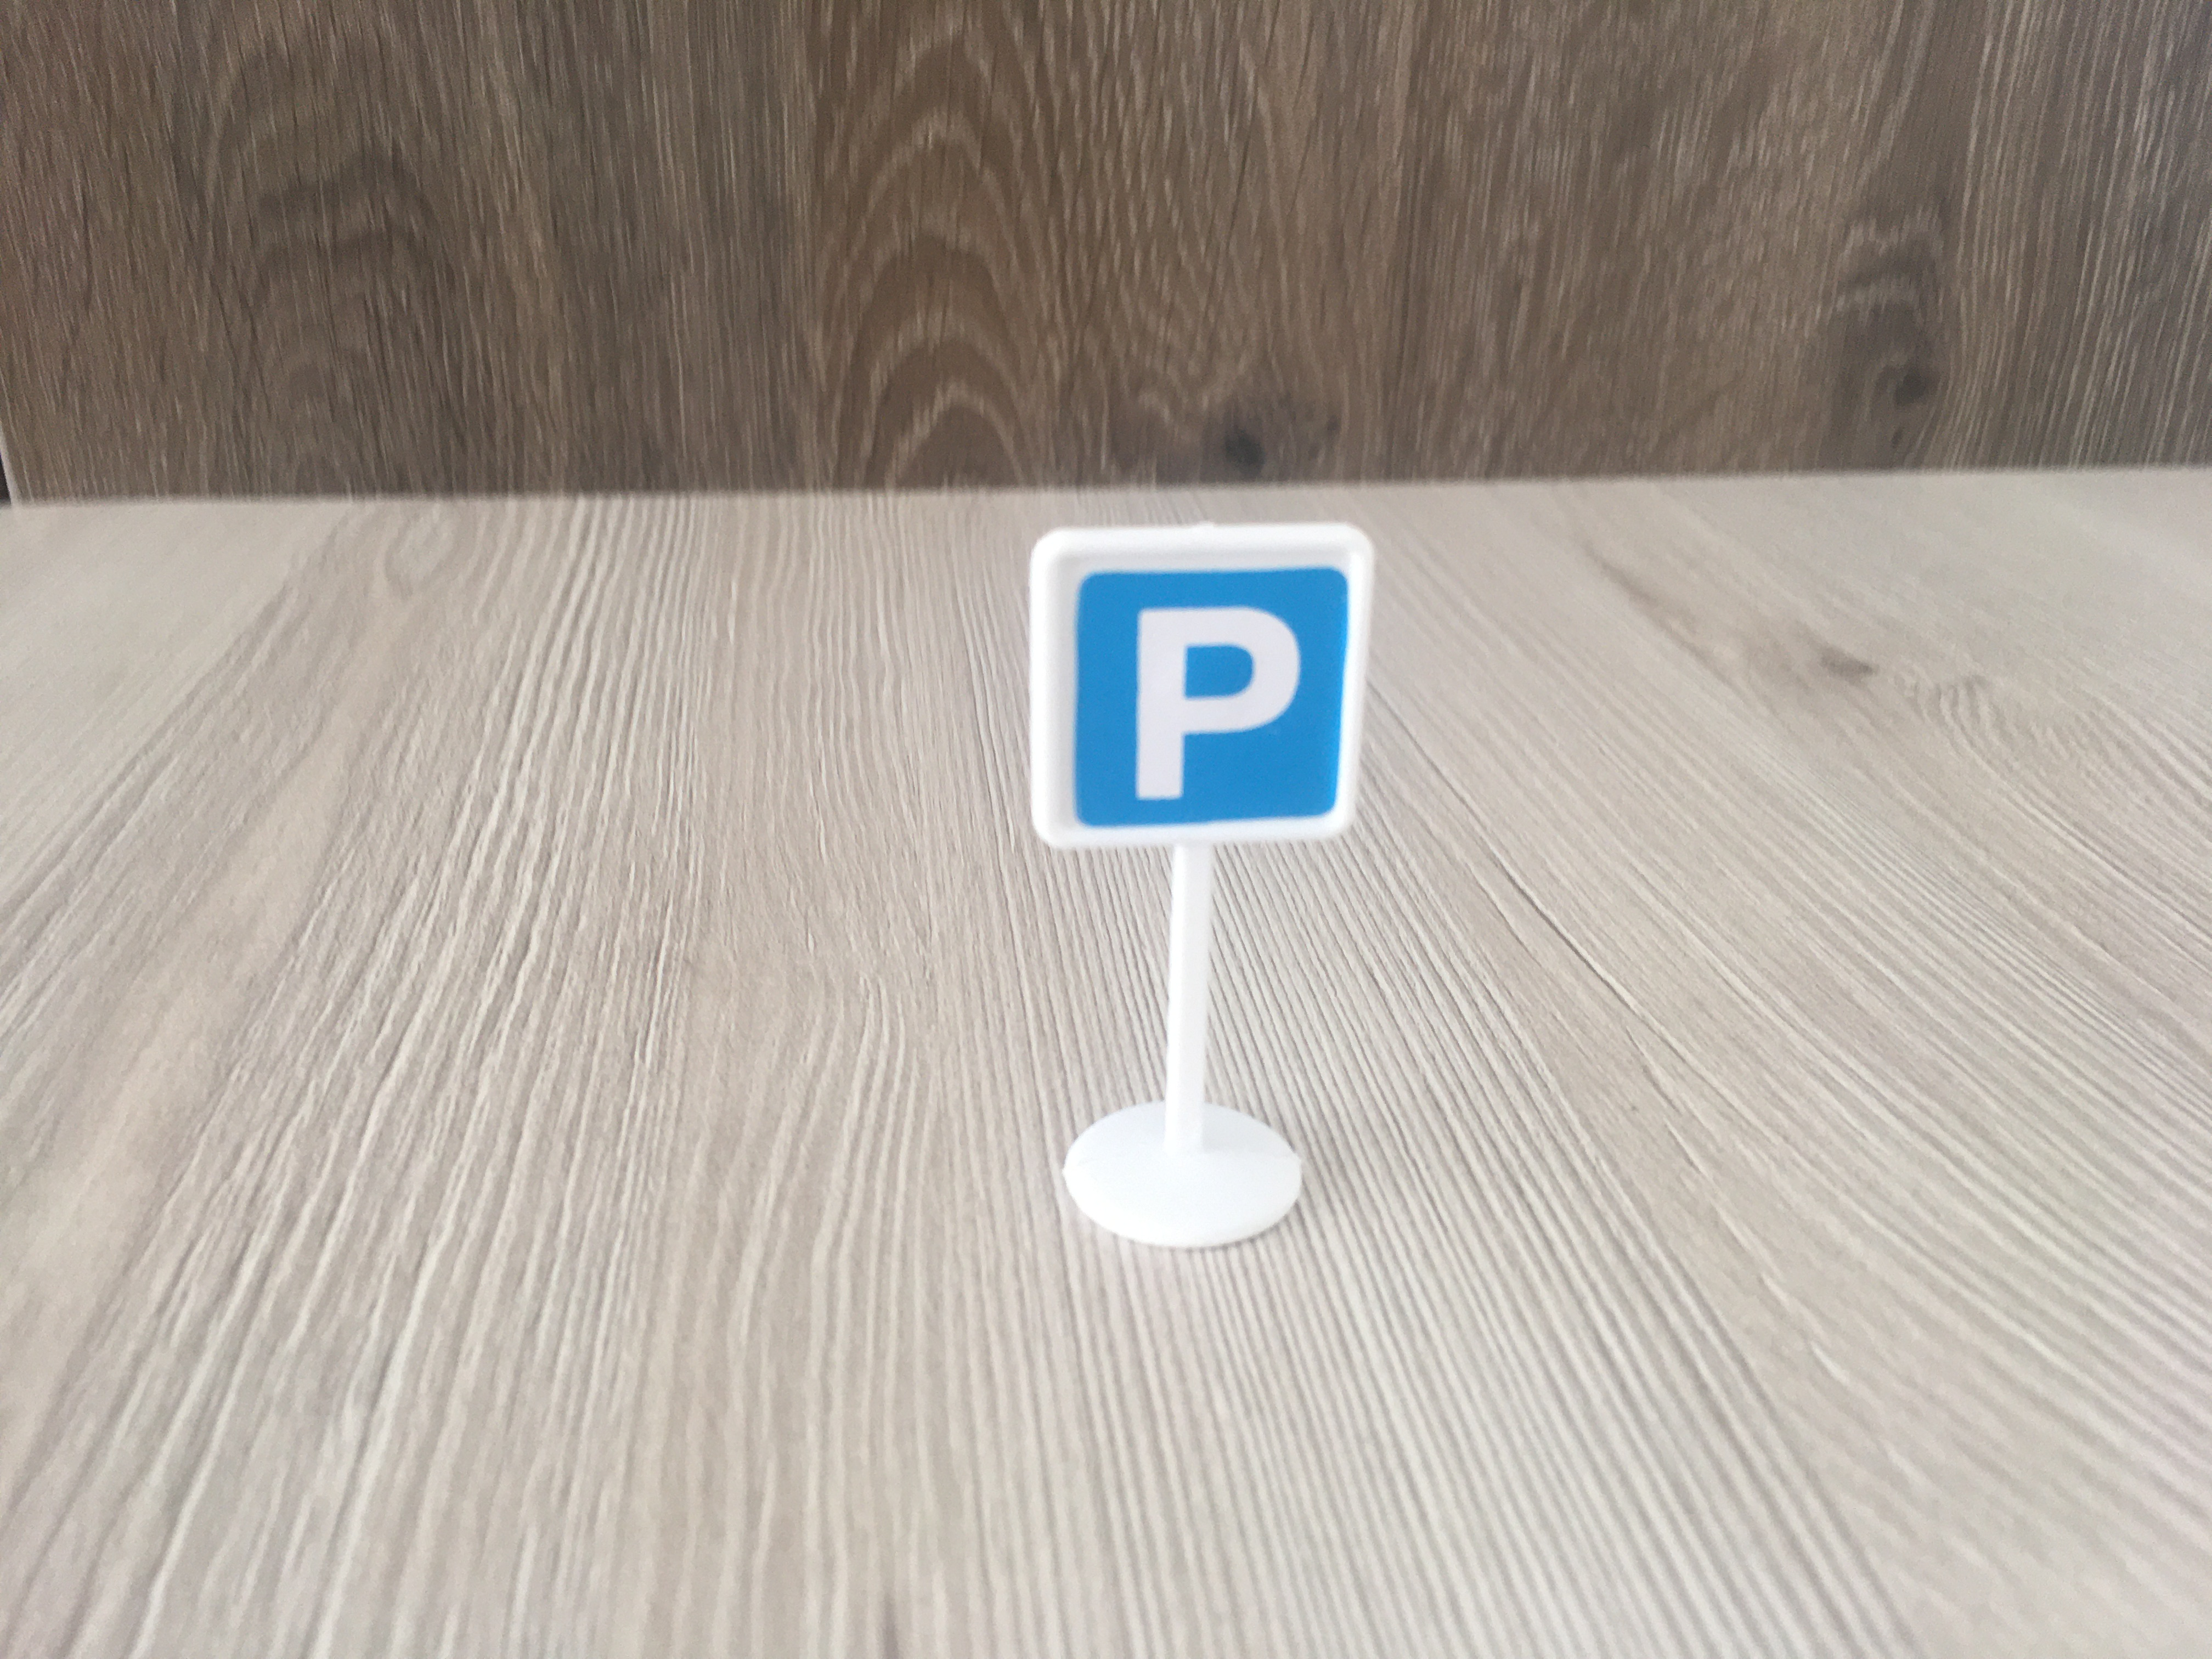parking: (1028, 528, 1371, 857)
